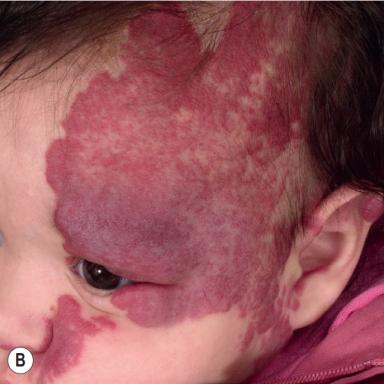Hemangiome: (47, 5, 301, 353), (39, 295, 102, 383)
